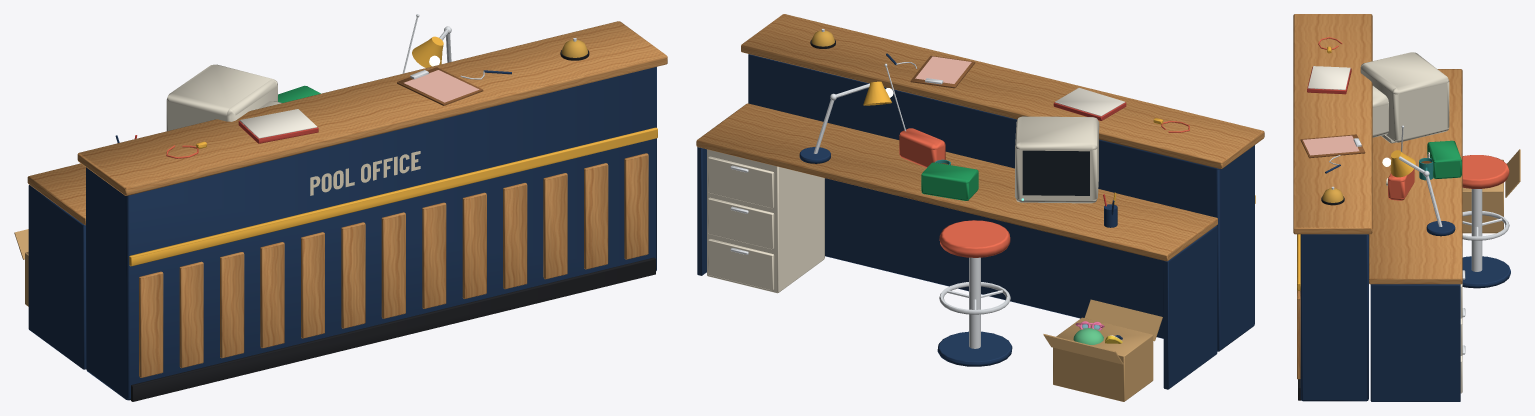
Rendered from office_counter.glb.
The picture shows the model from 3 angles, left to right: view 1: azimuth 30°, elevation 25°; view 2: azimuth 150°, elevation 25°; view 3: azimuth 270°, elevation 25°; orthographic projection. The views are drawn at different scales.
Visible parts, largest first — view 1: OfficeCounterMesh; view 2: OfficeCounterMesh; view 3: OfficeCounterMesh, HandBell.
Part boxes in pixels (box(x1,y1,x2,y2)): OfficeCounterMesh: box(14, 14, 667, 401); OfficeCounterMesh: box(696, 14, 1264, 401); OfficeCounterMesh: box(1293, 14, 1520, 401); HandBell: box(1321, 186, 1344, 205).
Size of the model in its own units: 2.82 by 1.27 by 1.26.
Materials: 38 (4 with a texture image).
